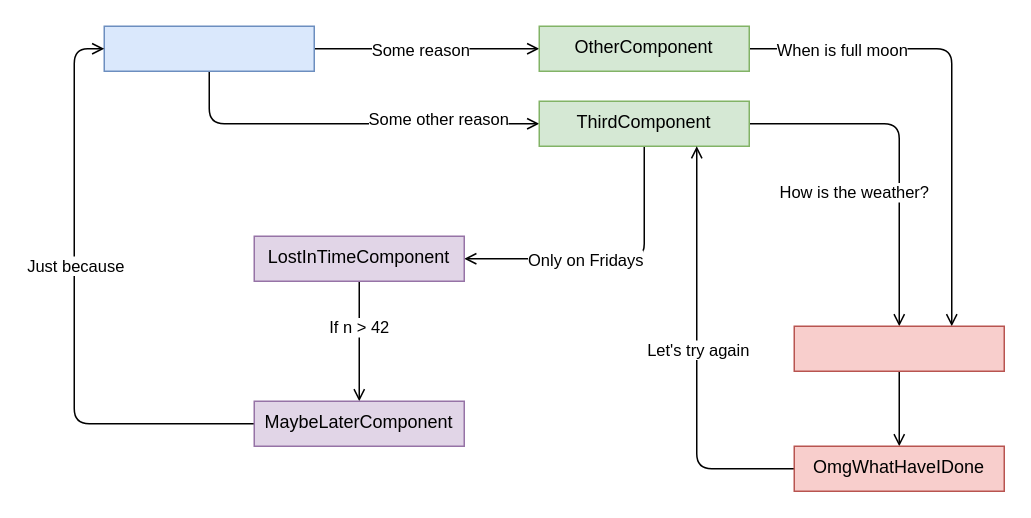
This 1031x518 diagram has some shape labels left out. Each missing label, with the centre of its shape:
SomeComponent: the point at 208,48
TheRedPath: the point at 898,348
